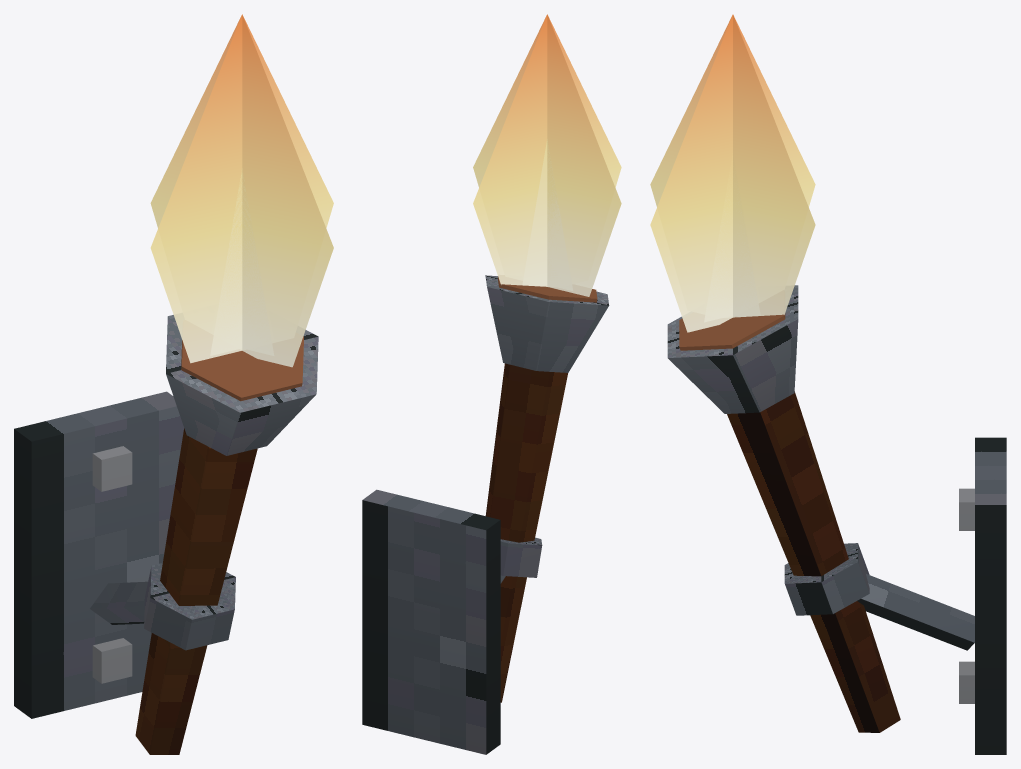
The model's file is wall_torch.glb.
3 views of the same model, side by side, from view 1: azimuth 30°, elevation 25°; view 2: azimuth 150°, elevation 25°; view 3: azimuth 270°, elevation 25° (orthographic). The views are drawn at different scales.
Parts seen in each view (by area): view 1: body, flame; view 2: body, flame; view 3: body, flame.
Part boxes in pixels (x1,y1,x2,y2): body: (14,315,318,754); flame: (150,14,333,367); body: (362,275,609,754); flame: (473,14,621,296); body: (667,285,1006,754); flame: (650,14,815,332).
Bounding box in the file's own units: 0.18 × 0.7442 × 0.336.
4 materials, 2 textured.
